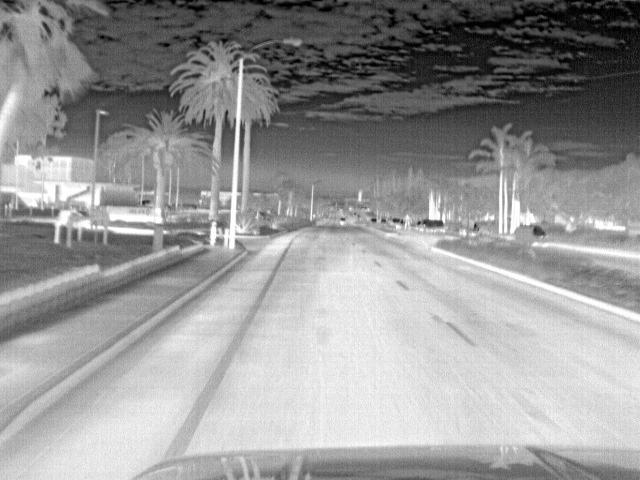car: (529, 225, 549, 246), (420, 222, 438, 234)
person: (401, 212, 414, 232)
